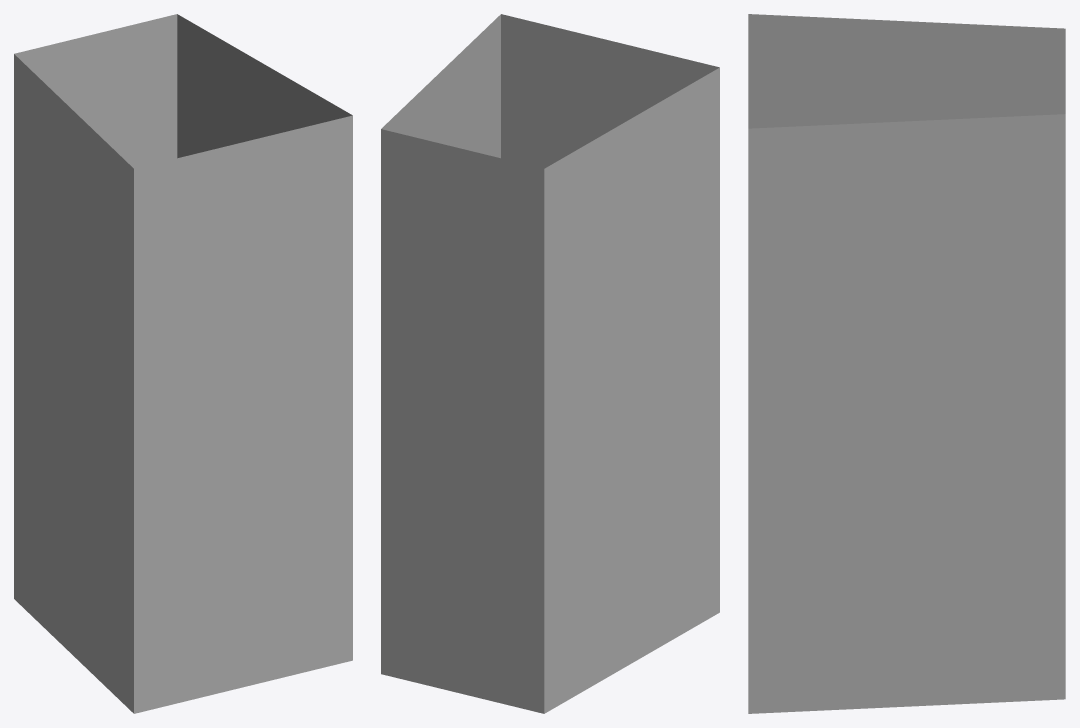
Rendered from Itr_Obj_Speaker3_Base_01.FBX.
The picture shows the model from 3 angles, left to right: view 1: azimuth 30°, elevation 25°; view 2: azimuth 150°, elevation 25°; view 3: azimuth 270°, elevation 25°; orthographic projection. The views are drawn at different scales.
Parts seen in each view (by area): view 1: Itr_Obj_Speaker3_Base_01; view 2: Itr_Obj_Speaker3_Base_01; view 3: Itr_Obj_Speaker3_Base_01.
Part boxes in pixels (x1,y1,x2,y2): Itr_Obj_Speaker3_Base_01: (14, 14, 352, 713); Itr_Obj_Speaker3_Base_01: (381, 14, 719, 713); Itr_Obj_Speaker3_Base_01: (748, 14, 1065, 713).
Size of the model in its own units: 9.88 by 23.51 by 11.56.
